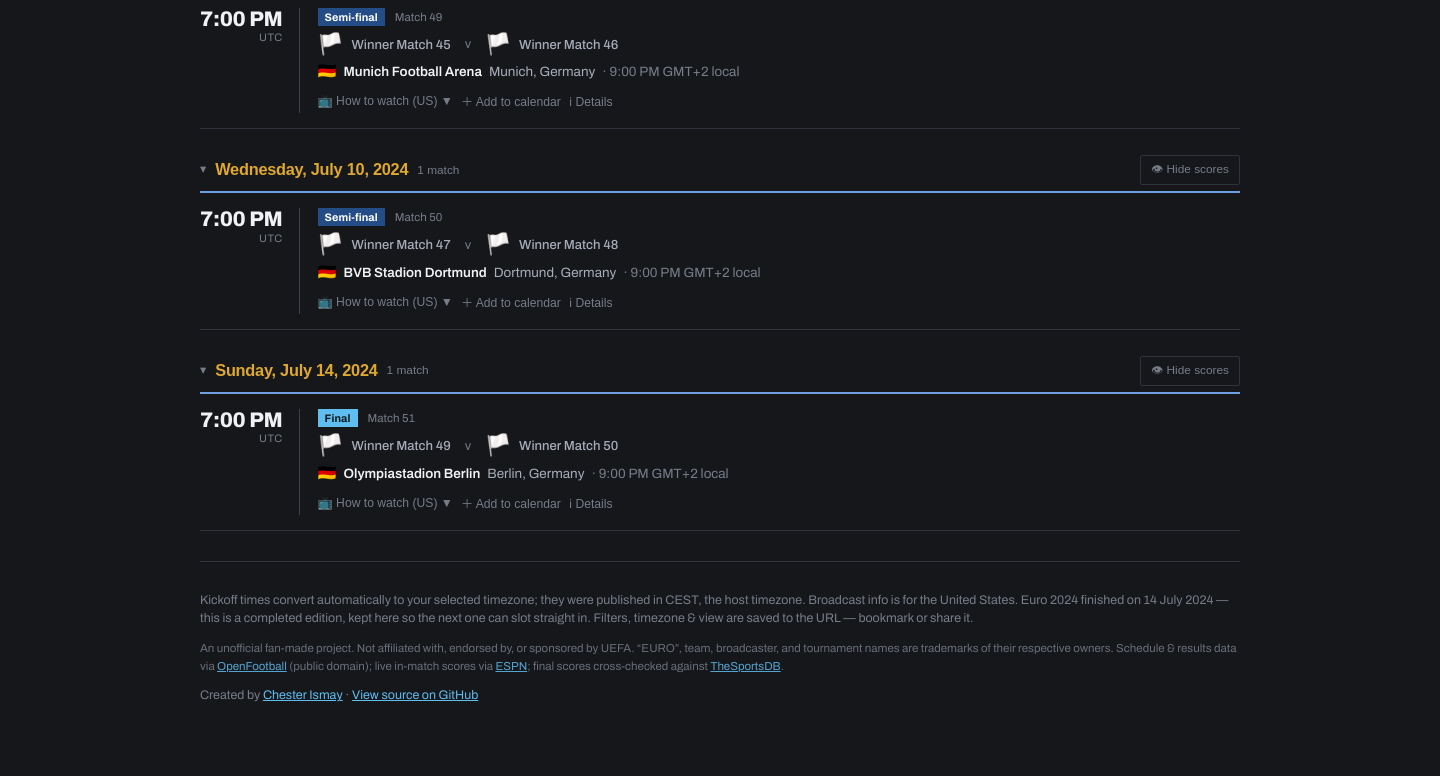
App coverage › per-day spoiler + collapse toggles work
(page scrolled)
Click the 3rd button "👁 Hide scores" at (1190, 371), box [1140, 356, 1240, 386]
(page scrolled)
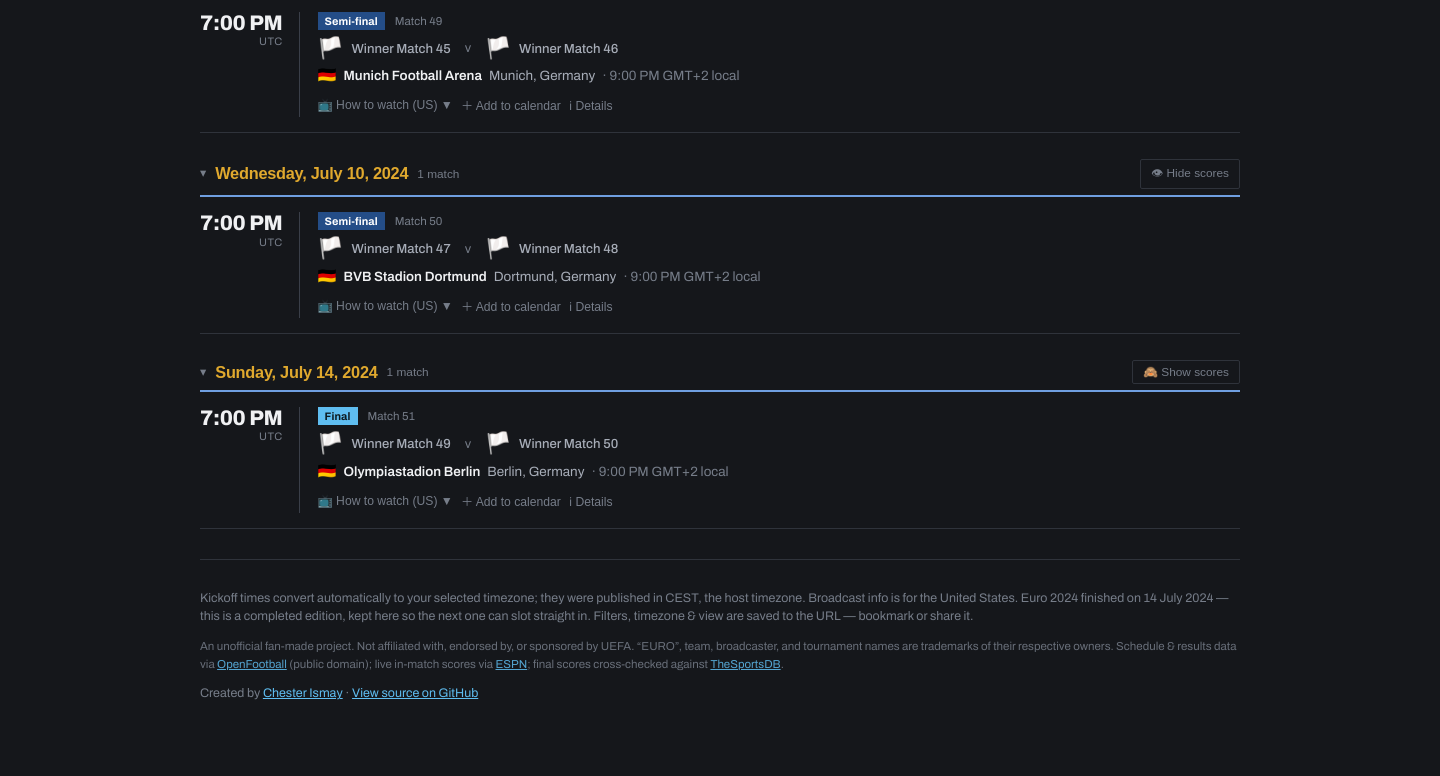
Click the button "🙈 Show scores" at (1186, 372), box [1132, 360, 1240, 384]
(page scrolled)
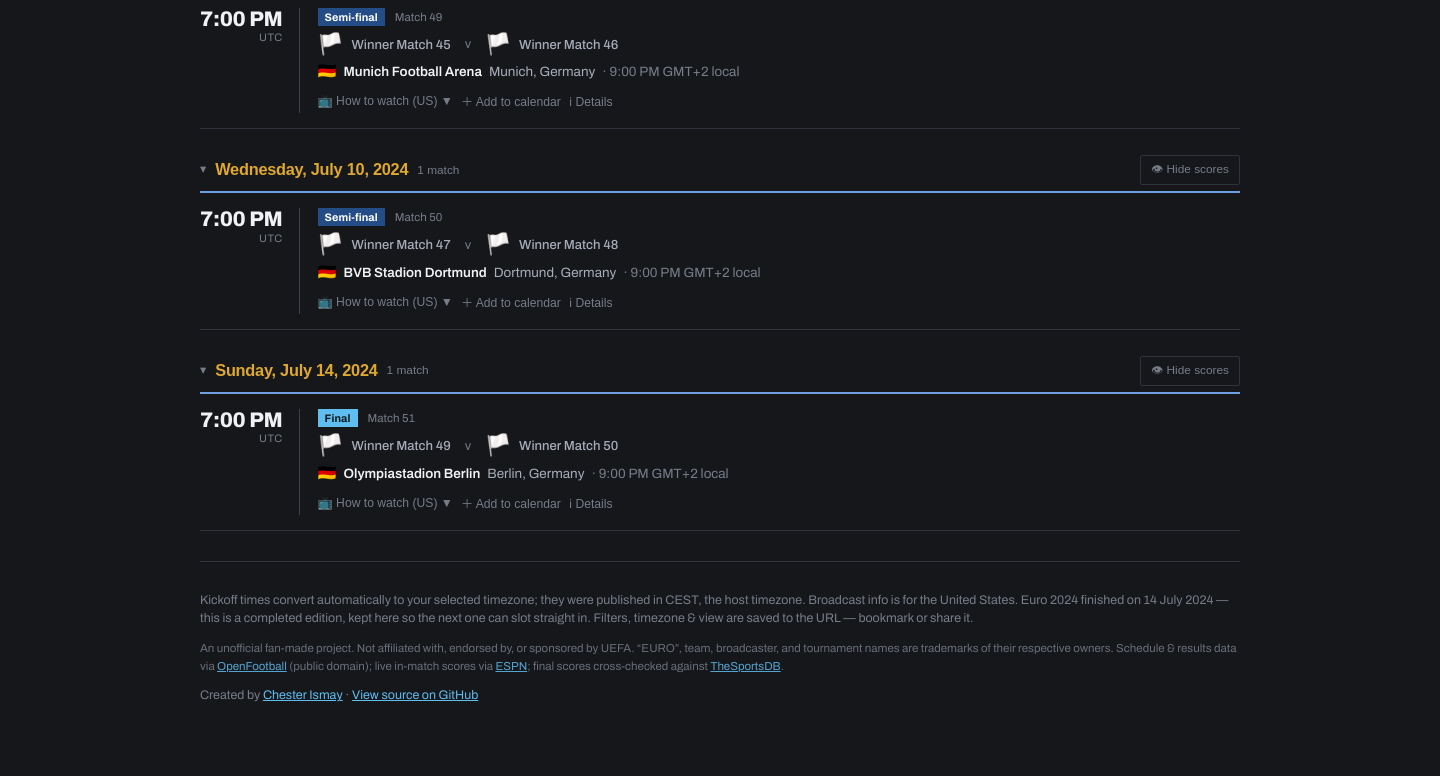
Click the button "▾ Sunday, July 14, 2024 1 match" at (296, 370), box [200, 361, 1128, 380]
(page scrolled)
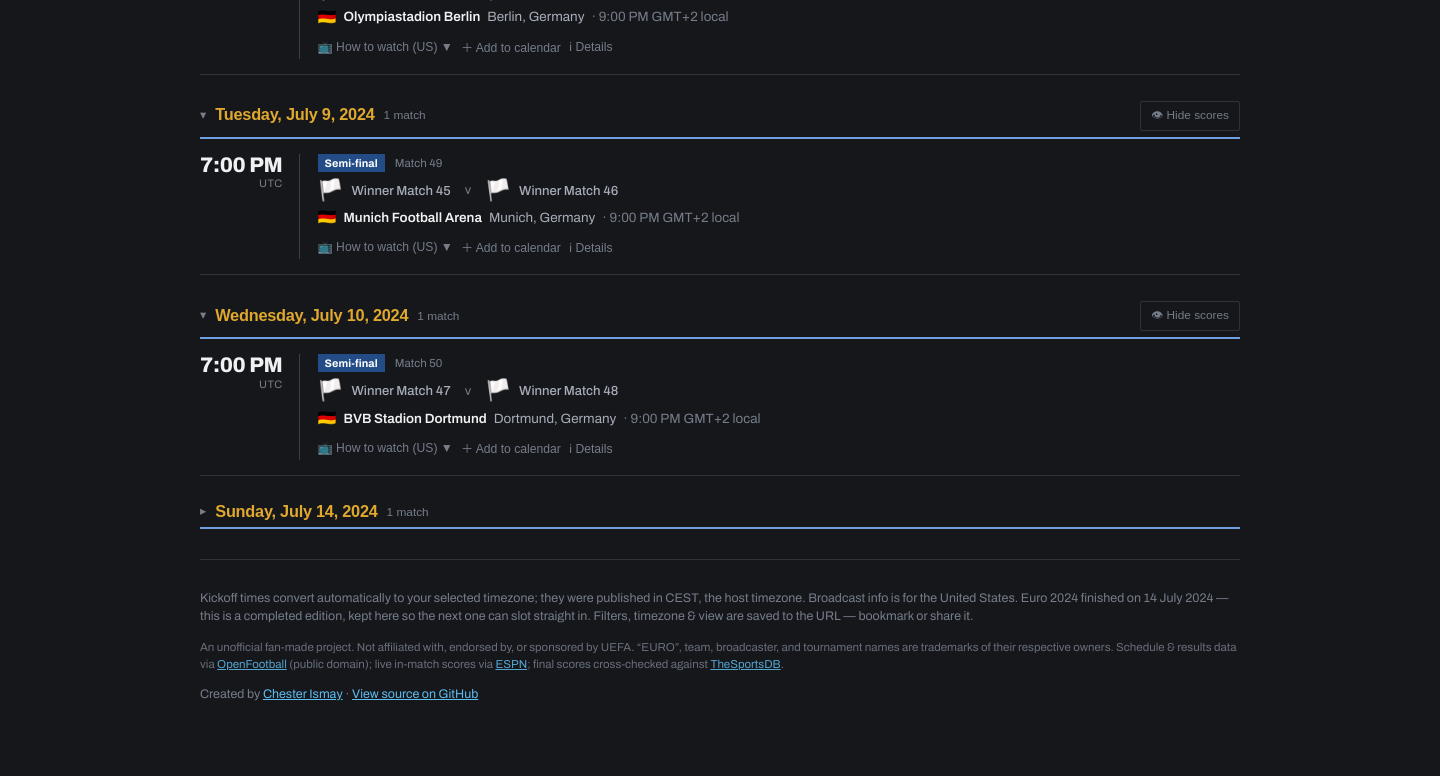
Check: the button "▸ Sunday, July 14, 2024 1 match" is collapsed
Click the button "▸ Sunday, July 14, 2024 1 match" at (296, 511), box [200, 502, 1240, 521]
(page scrolled)
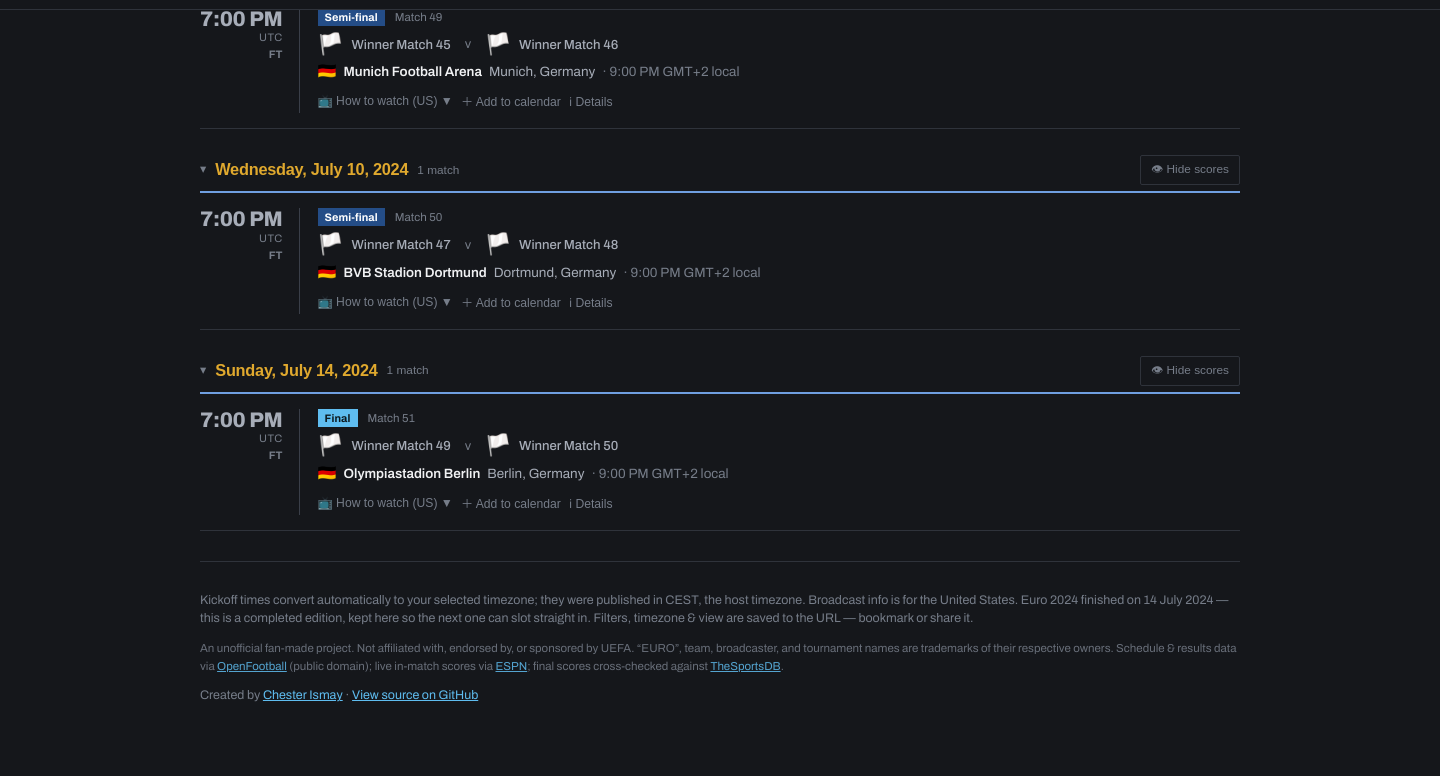
Check: the button "▾ Sunday, July 14, 2024 1 match" is expanded, box [200, 361, 1128, 380]
